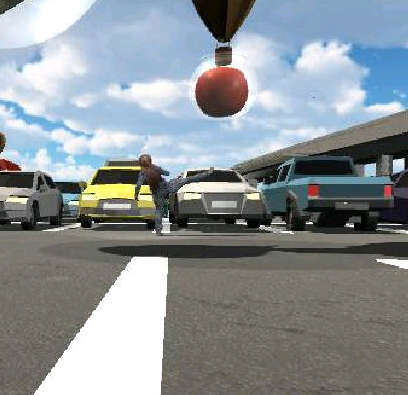turn_right: (133, 151, 216, 232)
